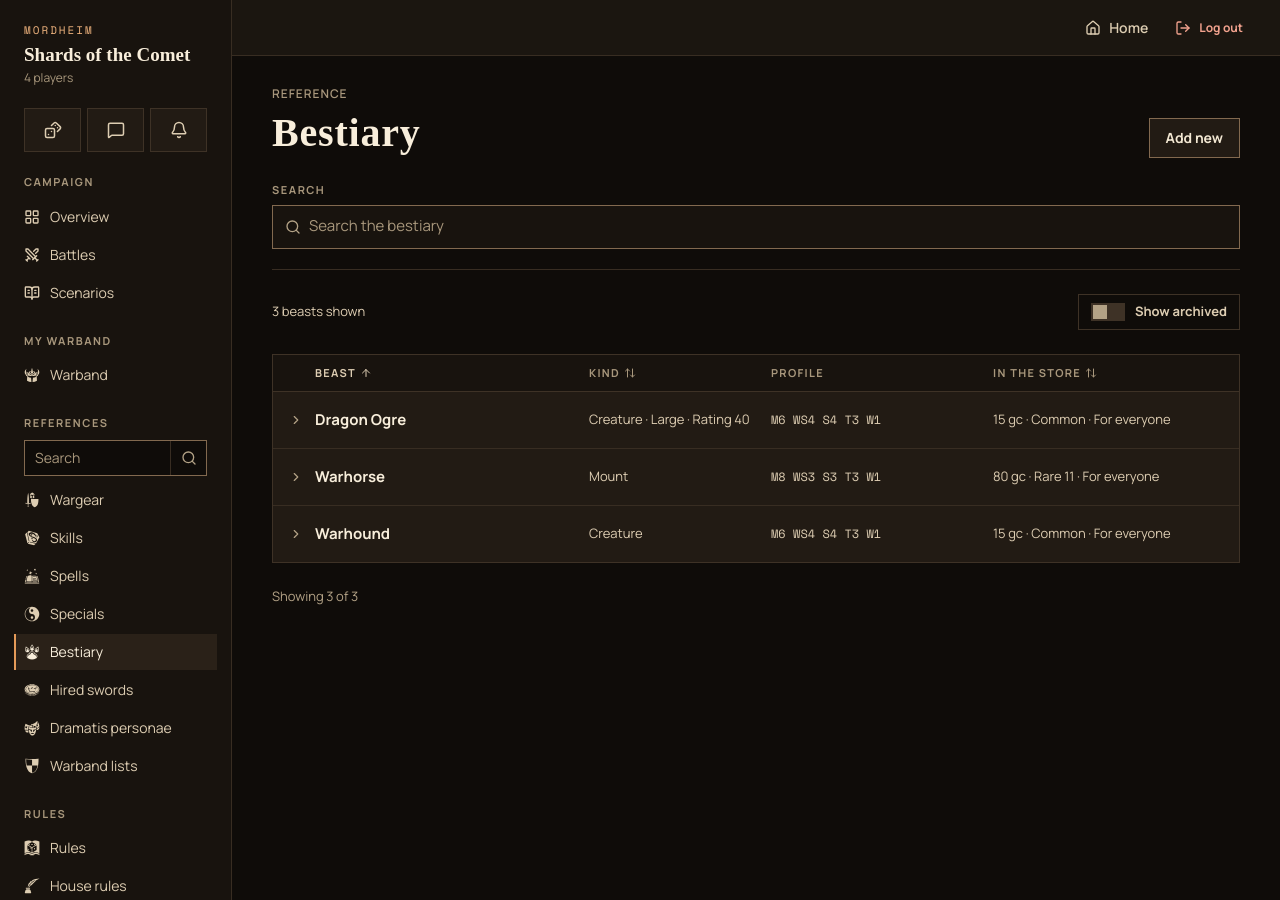
Test case: A beast's shop prices › are the item form's price rows, every part of them shown
Click the button "Add new".
click(1194, 138)  # box [1148, 118, 1240, 158]
(page scrolled)
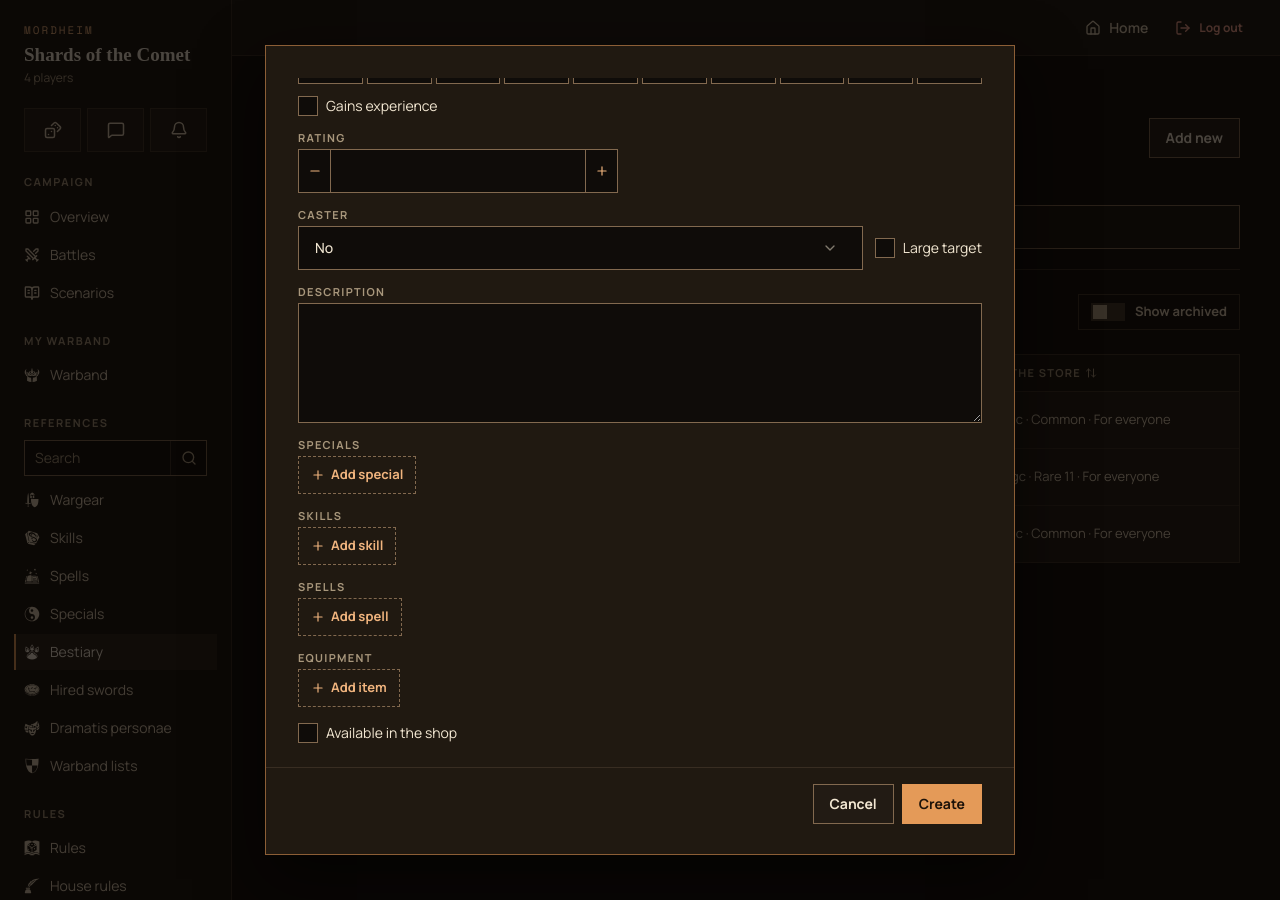
Click the checkbox labelled "Available in the shop".
click(378, 733)  # box [298, 723, 457, 743]
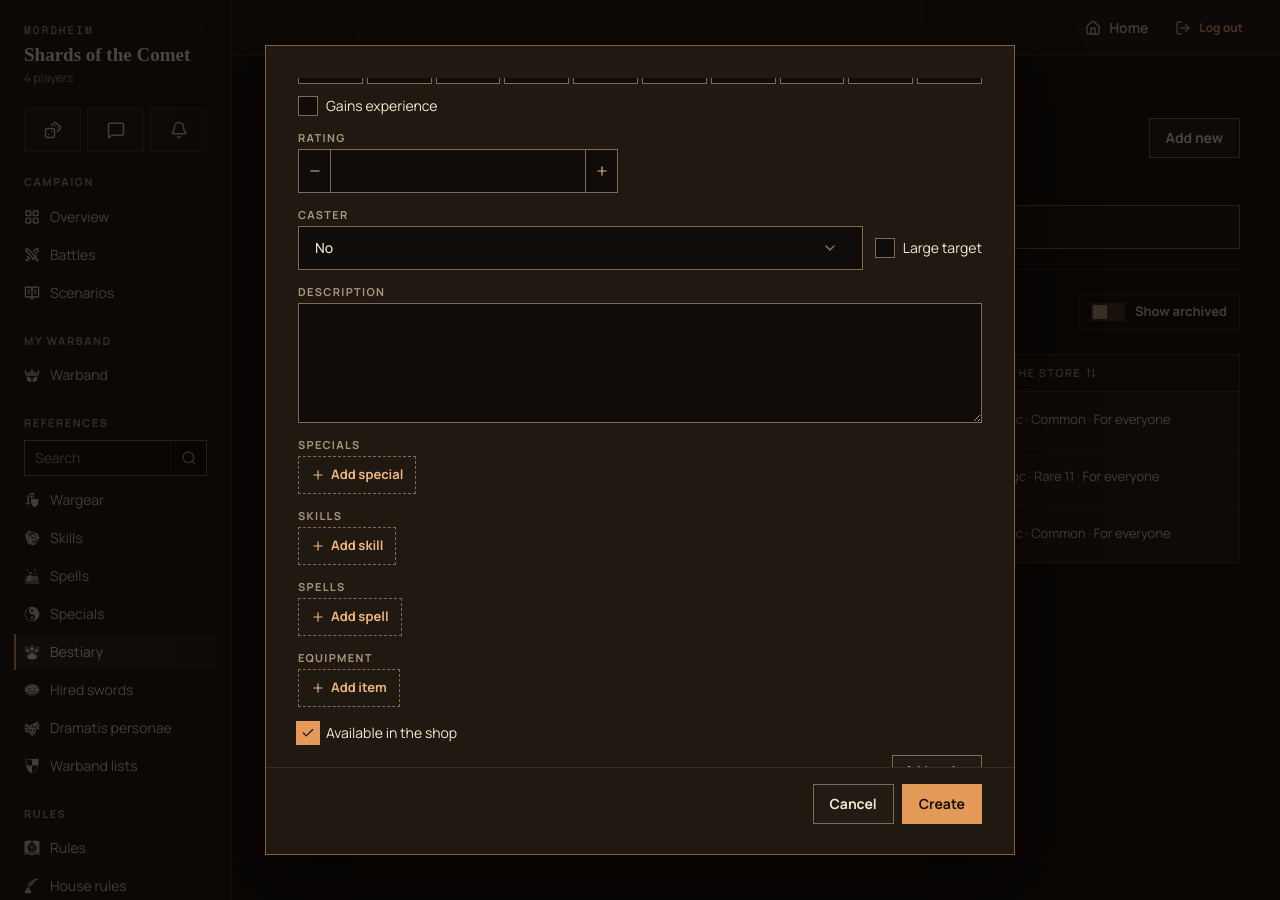
Check: the button "Add a price" is shown, box [892, 755, 982, 787]
